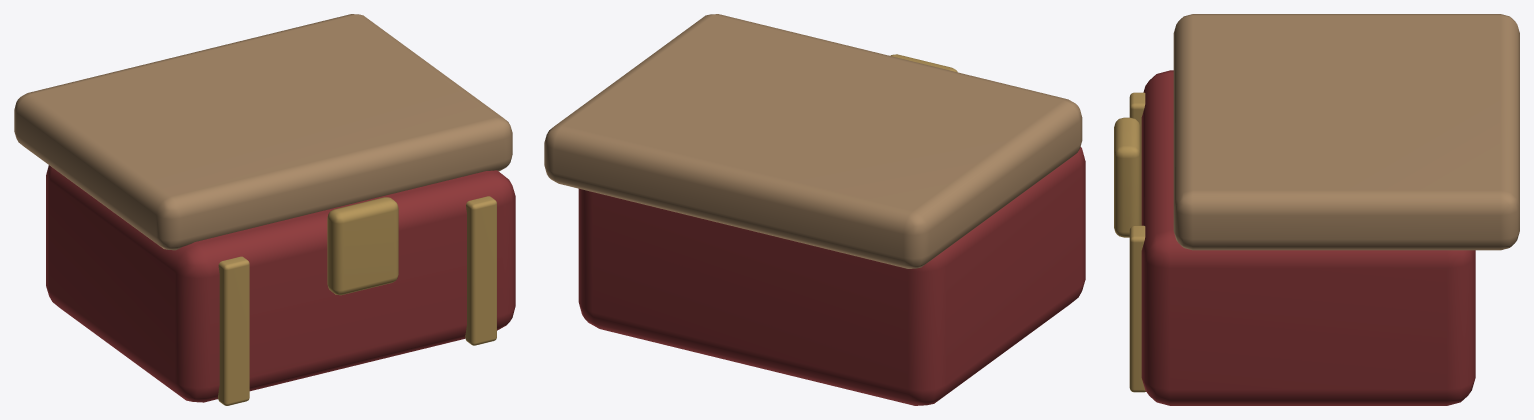
Rendered from Tool_small_prize_box.fbx.
3 renders of one model, left to right at view 1: azimuth 30°, elevation 25°; view 2: azimuth 150°, elevation 25°; view 3: azimuth 270°, elevation 25°, orthographic. The views are drawn at different scales.
Parts seen in each view (by area): view 1: Prize_Box_Lid, Prize_Box_Base, Prize_Box_Brass_Latch, Prize_Box_Brass_Corner, Prize_Box_Brass_Corner.001; view 2: Prize_Box_Lid, Prize_Box_Base; view 3: Prize_Box_Lid, Prize_Box_Base, Prize_Box_Brass_Latch, Prize_Box_Brass_Corner.001, Prize_Box_Brass_Corner.
Part boxes in pixels (x1,y1,x2,y2): Prize_Box_Lid: [14, 14, 512, 250]; Prize_Box_Base: [46, 165, 515, 402]; Prize_Box_Brass_Latch: [327, 197, 398, 295]; Prize_Box_Brass_Corner: [218, 256, 249, 405]; Prize_Box_Brass_Corner.001: [465, 196, 496, 345]; Prize_Box_Lid: [544, 14, 1082, 268]; Prize_Box_Base: [578, 146, 1085, 405]; Prize_Box_Lid: [1173, 14, 1519, 250]; Prize_Box_Base: [1141, 70, 1475, 405]; Prize_Box_Brass_Latch: [1114, 117, 1140, 237]; Prize_Box_Brass_Corner.001: [1129, 225, 1145, 392]; Prize_Box_Brass_Corner: [1129, 92, 1145, 225].
Bounding box in the file's own units: 0.189 × 0.1025 × 0.17.
